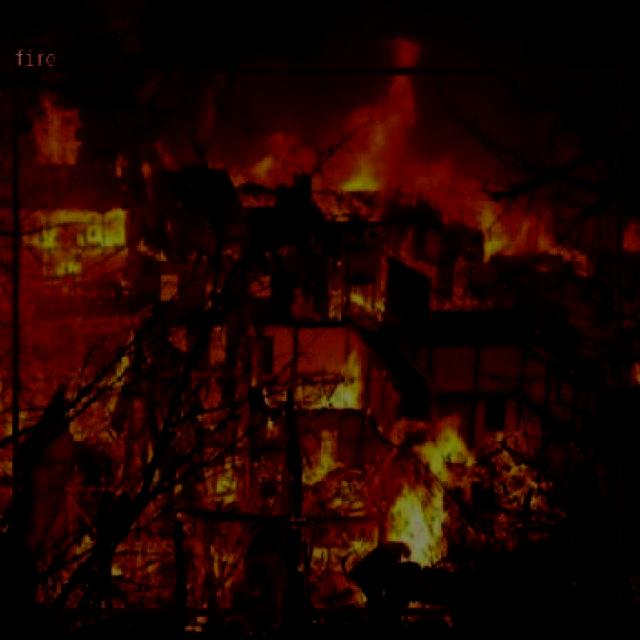fire: (12, 68, 620, 614)
